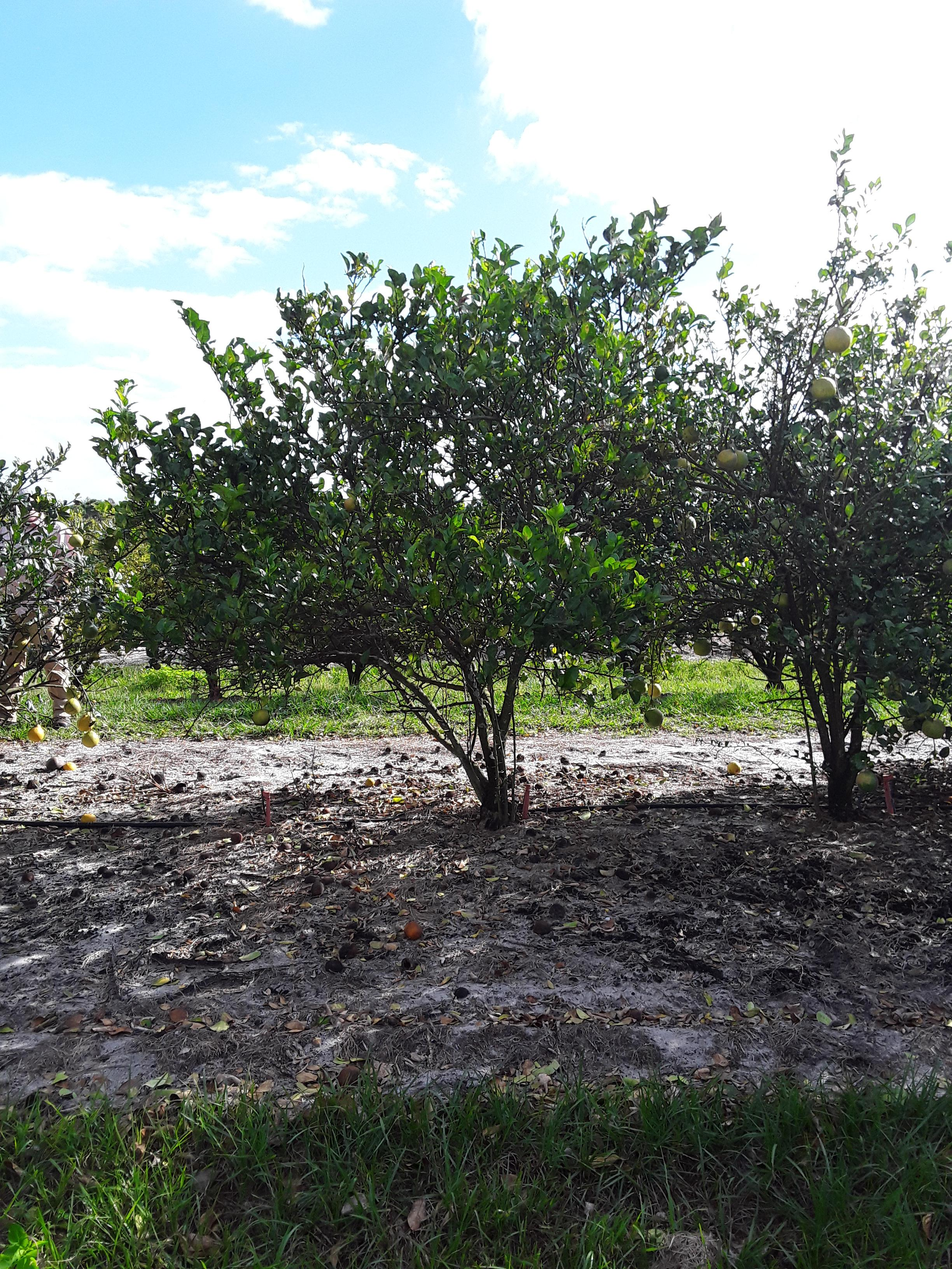fruit_on_ground: (822, 325, 856, 354), (811, 375, 841, 404), (855, 770, 884, 796), (882, 680, 909, 702), (922, 715, 947, 738), (716, 449, 739, 471), (23, 723, 47, 744), (768, 517, 793, 537), (80, 620, 102, 641), (692, 634, 712, 657), (642, 708, 665, 727), (901, 713, 924, 732), (772, 593, 795, 611), (80, 730, 103, 748), (678, 514, 697, 535), (654, 363, 675, 382), (682, 423, 700, 445), (630, 675, 650, 694), (735, 445, 749, 472), (74, 715, 97, 730), (673, 457, 692, 475), (63, 697, 82, 715), (718, 617, 738, 634), (15, 636, 32, 655), (252, 709, 271, 726), (357, 601, 376, 617), (343, 494, 359, 512), (460, 631, 476, 647), (69, 533, 86, 548), (646, 683, 663, 698), (942, 556, 952, 577), (746, 614, 762, 626)
fruit_on_tree: (402, 917, 424, 942), (338, 941, 360, 960), (79, 808, 97, 829), (400, 958, 422, 974), (44, 756, 65, 771), (549, 904, 567, 921), (325, 959, 345, 974), (532, 920, 553, 934), (452, 987, 473, 1001), (726, 759, 742, 777), (21, 897, 41, 911), (320, 873, 339, 887), (68, 887, 88, 900), (328, 833, 346, 847), (614, 868, 631, 882), (323, 860, 342, 872), (230, 830, 245, 845), (310, 881, 326, 895), (709, 805, 726, 818), (304, 871, 321, 884), (139, 865, 159, 876), (173, 782, 190, 794), (63, 760, 77, 774), (346, 900, 363, 911), (151, 773, 166, 785), (525, 826, 540, 838), (586, 849, 602, 860), (20, 872, 36, 883), (555, 836, 569, 848), (300, 839, 314, 851), (183, 869, 198, 880), (145, 913, 158, 925), (368, 765, 382, 776), (703, 832, 716, 843), (630, 817, 644, 827), (528, 854, 543, 863), (102, 869, 117, 878), (365, 777, 376, 789), (279, 843, 295, 851), (198, 851, 212, 860), (538, 848, 550, 858), (200, 879, 212, 889), (560, 757, 573, 766), (632, 790, 645, 799), (445, 790, 457, 799), (388, 830, 400, 839), (384, 762, 396, 770), (344, 786, 356, 794), (575, 772, 588, 779), (376, 778, 387, 786), (534, 783, 546, 790), (385, 746, 395, 754), (355, 767, 365, 775), (412, 790, 422, 798), (322, 806, 332, 814), (399, 755, 412, 761), (519, 775, 530, 782), (303, 771, 312, 779), (517, 766, 527, 773), (614, 792, 623, 799), (618, 779, 628, 785), (517, 755, 526, 761)
